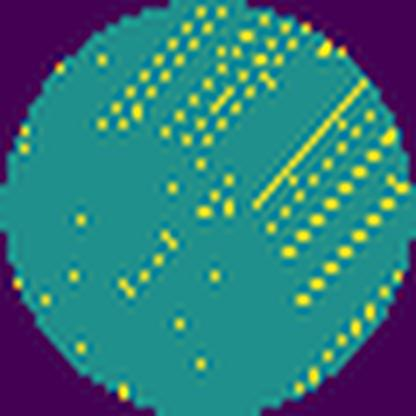Scratch: (156, 13, 308, 149), (94, 0, 226, 134), (290, 181, 411, 316), (251, 79, 368, 215), (279, 129, 394, 263)
